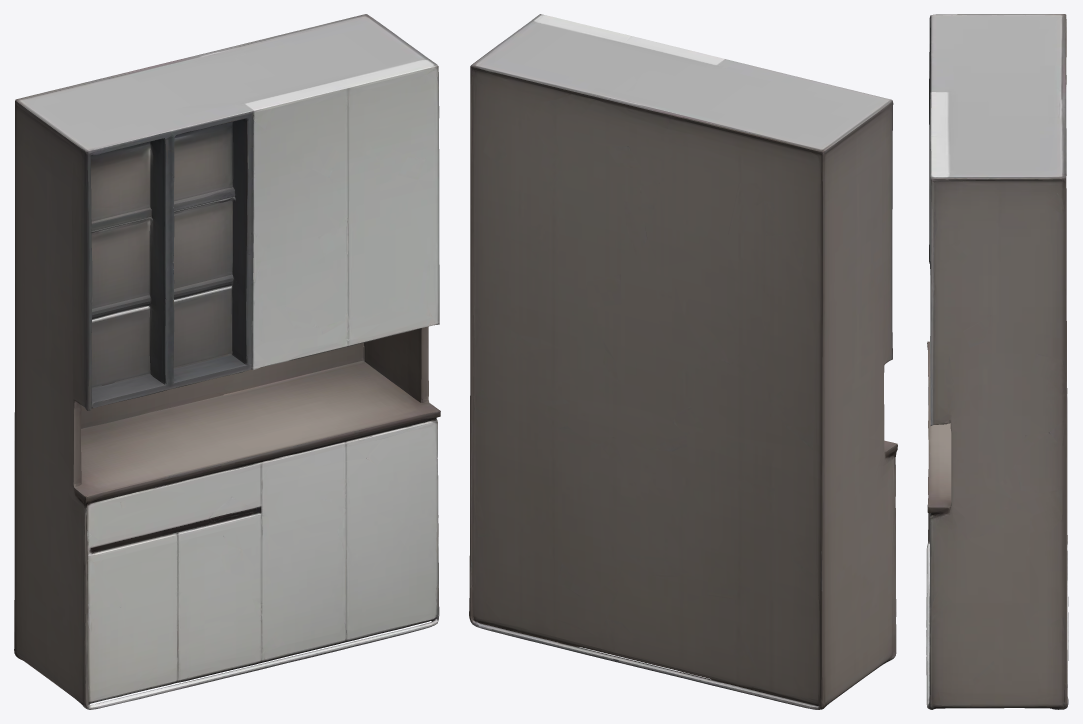
Rendered from ast_be92a6195a80.glb.
3 renders of one model, left to right at view 1: azimuth 30°, elevation 25°; view 2: azimuth 150°, elevation 25°; view 3: azimuth 270°, elevation 25°, orthographic. The views are drawn at different scales.
Parts seen in each view (by area): view 1: geometry_0; view 2: geometry_0; view 3: geometry_0.
Boxes of the visible parts, box(x1,y1,x2,y2) form: geometry_0: box(14, 14, 440, 709); geometry_0: box(469, 14, 897, 709); geometry_0: box(926, 14, 1068, 709).
Bounding box in the file's own units: 0.6648 × 1 × 0.2408.
Materials: 1 (1 with a texture image).
